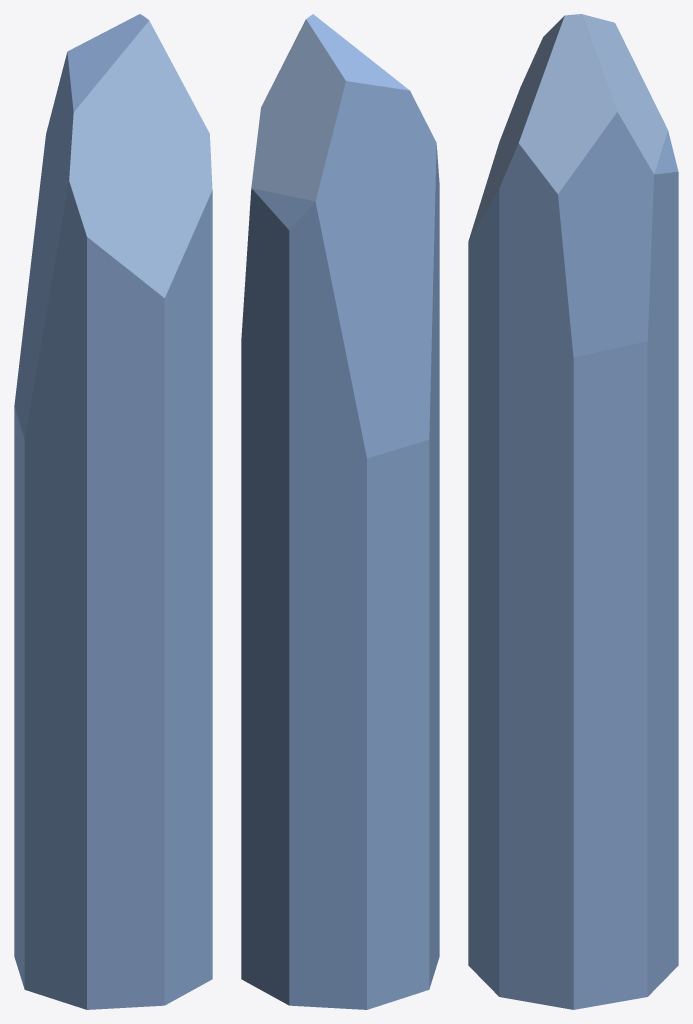
Rendered from crystal_5.fbx.
3 renders of one model, left to right at view 1: azimuth 30°, elevation 25°; view 2: azimuth 150°, elevation 25°; view 3: azimuth 270°, elevation 25°, orthographic. The views are drawn at different scales.
Visible parts, largest first — view 1: crystal_5; view 2: crystal_5; view 3: crystal_5.
Boxes of the visible parts, <box> form: crystal_5: <box>14,14,212,1009</box>; crystal_5: <box>241,14,439,1009</box>; crystal_5: <box>468,14,678,1009</box>.
Size of the model in its own units: 26.58 by 135 by 26.58.
